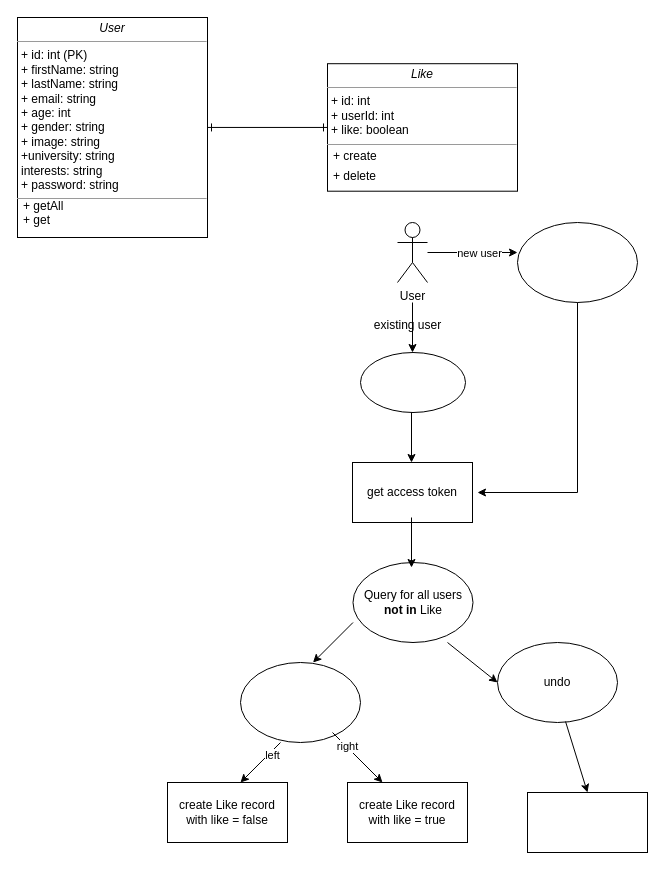
This 665x870 diagram has some shape labels left out. Each missing label, with the centre of its shape:
Delete record in Like table: pixel 587 822
Login: pixel 413 382
register: pixel 577 262
swipe: pixel 300 702
